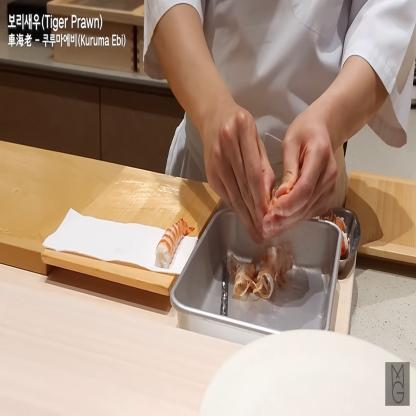streamer: (142, 0, 416, 244)
